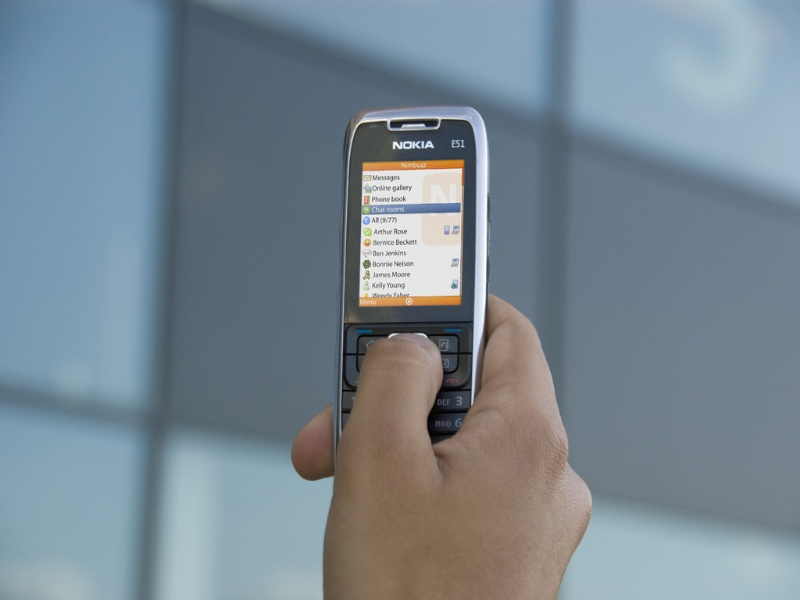cellphone: (340, 107, 482, 473)
